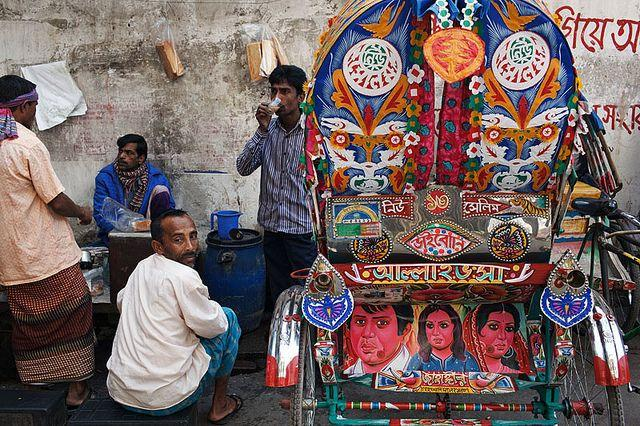Rickshaw: (266, 0, 628, 424), (553, 108, 639, 321)
